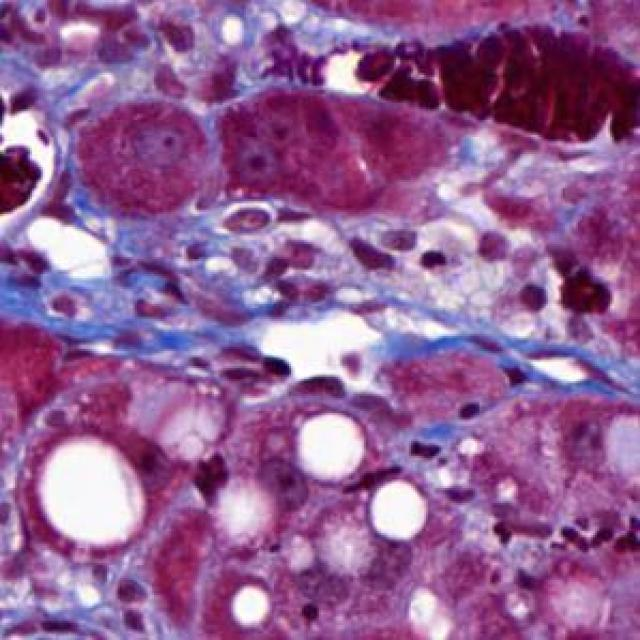inflammation: (516, 246, 616, 321), (187, 447, 236, 518)
